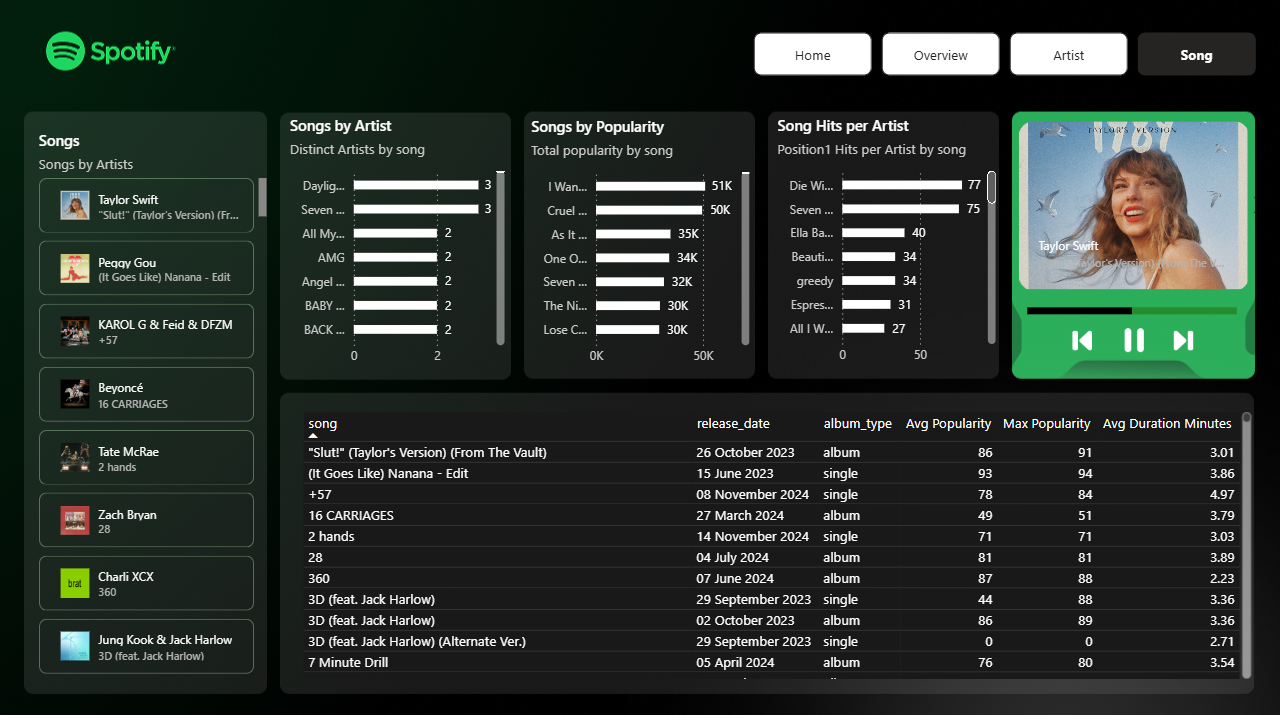

What the dashboard file says about the page in this screenshot:
{"tool":"powerbi","page":{"name":"Song","canvas":[1280,720],"ordinal":3},"visuals":[{"type":"advancedSlicerVisual","title":"Songs","fields":{"Values":["Top-50-world.song"]},"box":[992.4,114.6,281.6,180.5],"z":0,"group":"g1"},{"type":"hundredPercentStackedBarChart","fields":{"Y":["Measure_Table.Avg Popularity","Avg(Top-50-world.popularity)"]},"box":[1022.7,274,219.7,65.7],"z":1000,"group":"g1"},{"type":"advancedSlicerVisual","title":"Songs","fields":{"Values":["Top-50-world.song"]},"box":[34.1,130.1,238.6,553],"z":2000,"group":"g2"},{"type":"clusteredBarChart","title":"Songs by Artist","fields":{"Category":["Top-50-world.song"],"Y":["Measure_Table.Distinct Artists"]},"box":[285.4,114.9,224.7,258.8],"z":3000,"group":"g2"},{"type":"clusteredBarChart","title":"Songs by Popularity","fields":{"Category":["Top-50-world.song"],"Y":["Sum(Top-50-world.popularity)"]},"box":[526.5,116.2,228.5,257.6],"z":4000,"group":"g2"},{"type":"clusteredBarChart","title":"Song Hits per Artist","fields":{"Category":["Top-50-world.song"],"Y":["Measure_Table.Position1 Hits per Artist"]},"box":[772.7,114.9,228.5,257.6],"z":5000,"group":"g2"},{"type":"tableEx","fields":{"Values":["Top-50-world.song","Top-50-world.release_date","Top-50-world.album_type","Measure_Table.Avg Popularity","Measure_Table.Max Popularity","Measure_Table.Avg Duration Minutes"]},"box":[297.8,407.1,958.6,276.4],"z":6000,"group":"g2"},{"type":"pageNavigator","box":[754,32.6,505.5,43.4],"z":7000,"group":"g2"},{"type":"image","box":[1116.9,313.4,33.8,53.1],"z":8000,"group":"g1"},{"type":"image","box":[1167.6,323.1,32.6,33.8],"z":9000,"group":"g1"},{"type":"image","box":[1066.3,323.1,32.6,33.8],"z":10000,"group":"g1"},{"type":"group","id":"g1","title":"Group 1","box":[992.4,114.6,281.6,251.9],"z":10001,"group":"g2"},{"type":"group","id":"g2","title":"Group 2","box":[34.1,32.6,1239.8,650.9],"z":10002}]}

Visuals, with their boxes in screenshot pixels (x1, y1, x2, y2), scaled from the page's 1280x720 canvas onto the 1280x715 screenshot:
"Songs" advancedSlicerVisual: (x1=992, y1=114, x2=1274, y2=293)
hundredPercentStackedBarChart - Measure_Table.Avg Popularity x Avg(Top-50-world.popularity): (x1=1023, y1=272, x2=1242, y2=337)
"Songs" advancedSlicerVisual: (x1=34, y1=129, x2=273, y2=678)
"Songs by Artist" clusteredBarChart: (x1=285, y1=114, x2=510, y2=371)
"Songs by Popularity" clusteredBarChart: (x1=526, y1=115, x2=755, y2=371)
"Song Hits per Artist" clusteredBarChart: (x1=773, y1=114, x2=1001, y2=370)
tableEx - Top-50-world.song x Top-50-world.release_date: (x1=298, y1=404, x2=1256, y2=679)
pageNavigator: (x1=754, y1=32, x2=1260, y2=75)
image: (x1=1117, y1=311, x2=1151, y2=364)
image: (x1=1168, y1=321, x2=1200, y2=354)
image: (x1=1066, y1=321, x2=1099, y2=354)
"Group 1" group: (x1=992, y1=114, x2=1274, y2=364)
"Group 2" group: (x1=34, y1=32, x2=1274, y2=679)
